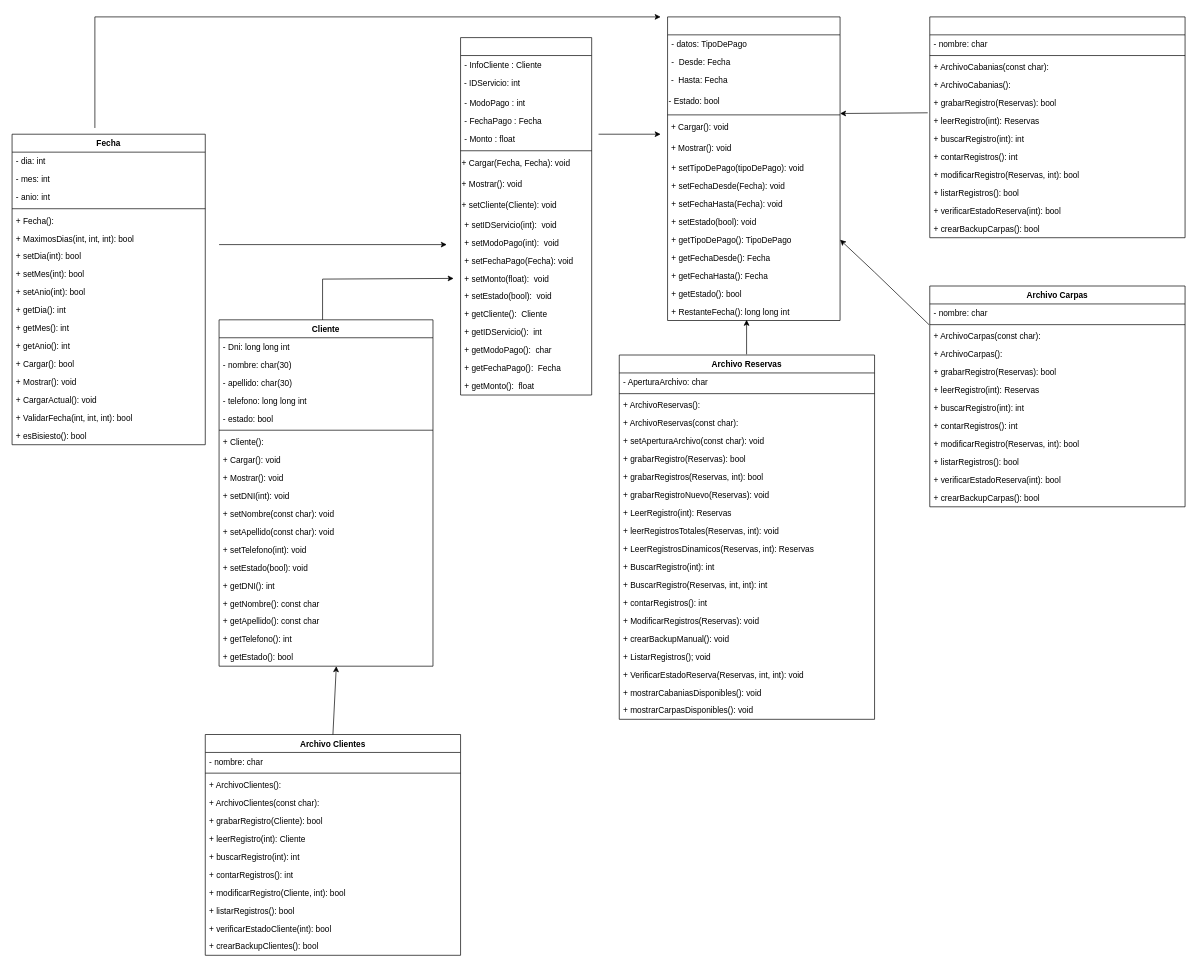
Some shapes in this 1197 by 969 pixel diagram are drawn without their labels. Each missing label, with the box of its shape:
Archivo Cabaña: (929, 16, 1185, 238)
Reservas: (667, 16, 840, 321)
Tipo de Pago: (460, 37, 592, 395)
